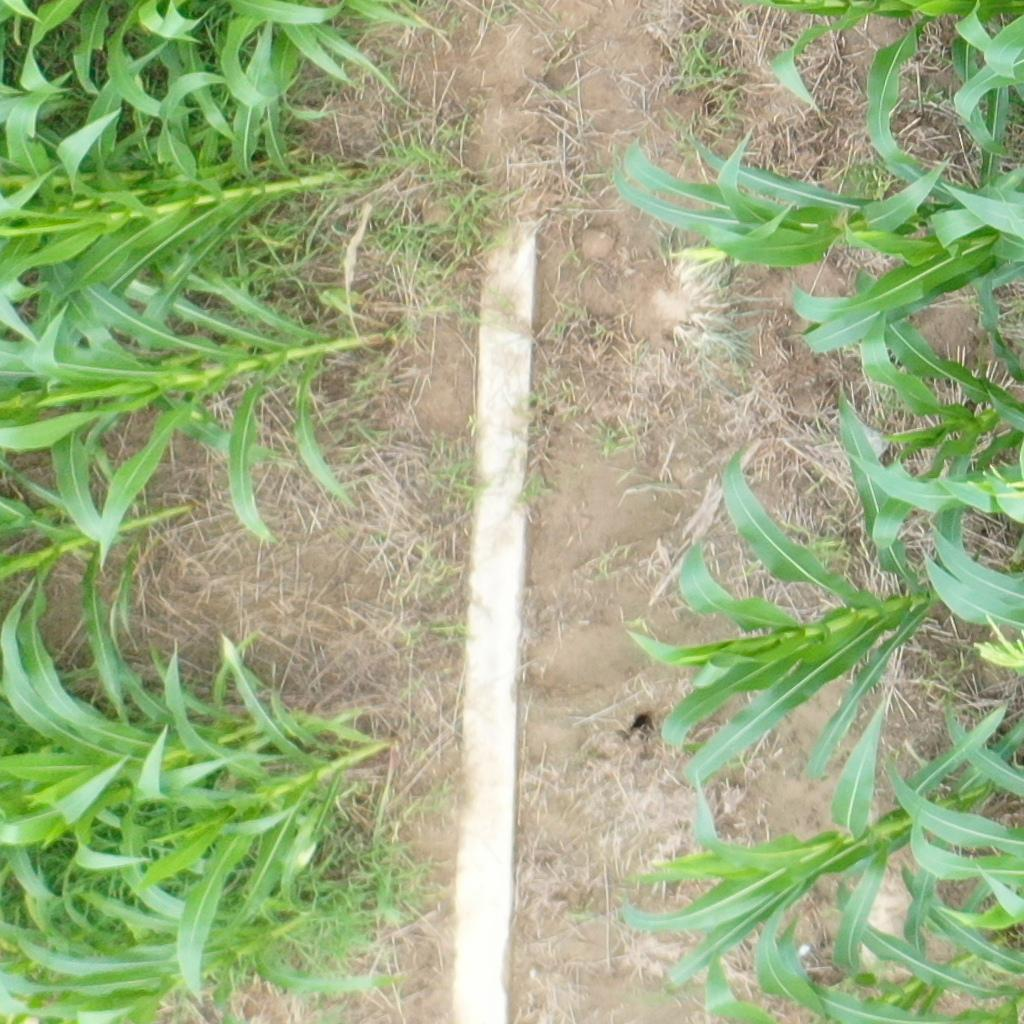Tassel: (973, 608, 1024, 675), (966, 463, 1023, 506), (667, 240, 733, 274)
